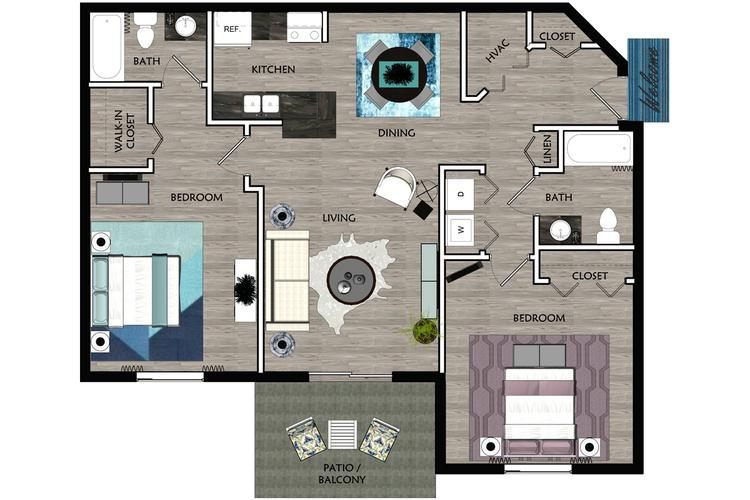wall: (80, 2, 567, 13), (633, 123, 643, 474), (81, 3, 90, 381), (204, 372, 307, 381), (435, 463, 506, 475), (436, 374, 445, 466), (572, 465, 635, 473), (84, 372, 135, 381), (393, 373, 445, 380), (618, 121, 642, 130)
